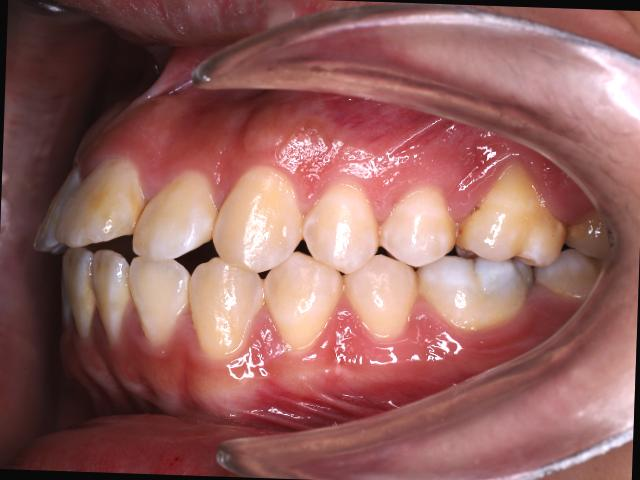canine class II 1/4: (183, 159, 347, 371)
molar class III 1/2: (416, 157, 572, 341)
